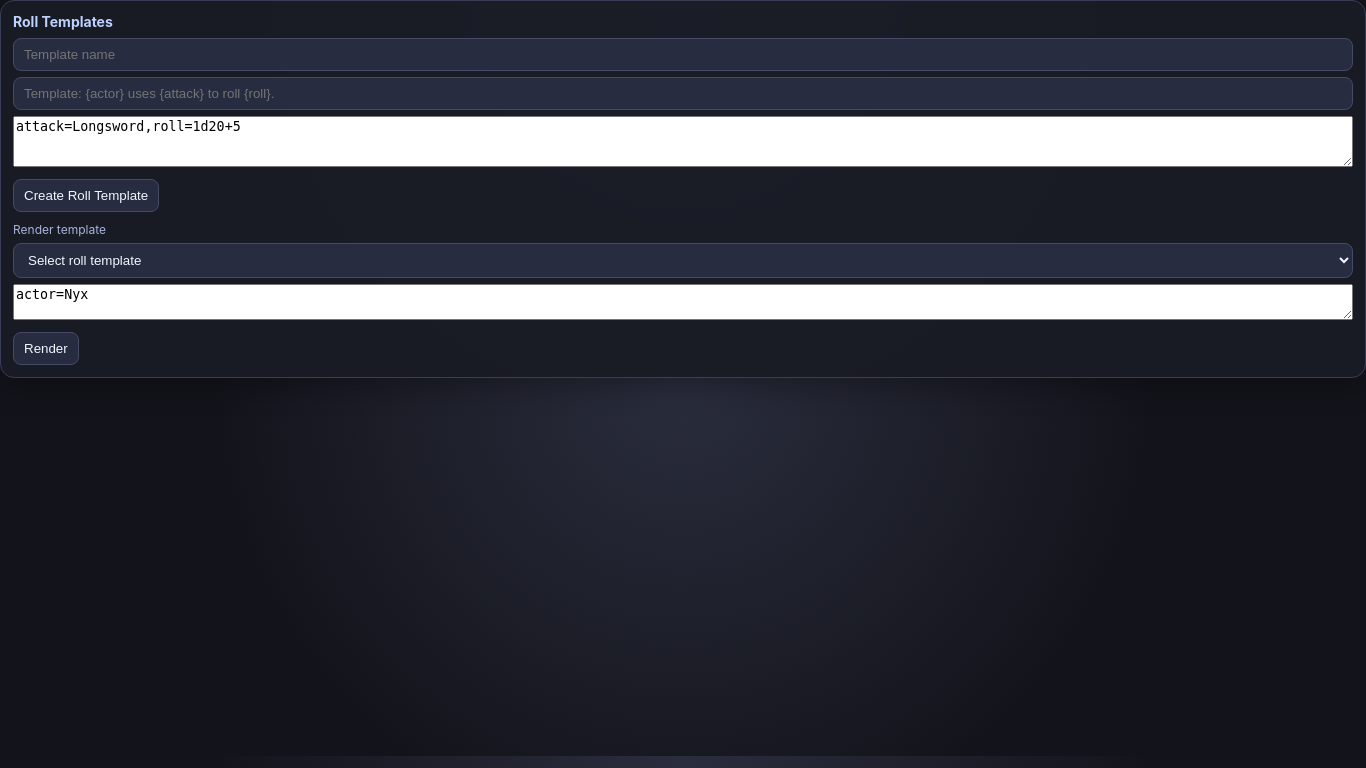
Test: Phase 4 panels › shows backend failure feedback when roll template render fails
The image size is (1366, 768).
Select "Attack" in the dropdown. click: (683, 260)
box: top-left (13, 243), bottom-right (1353, 278)
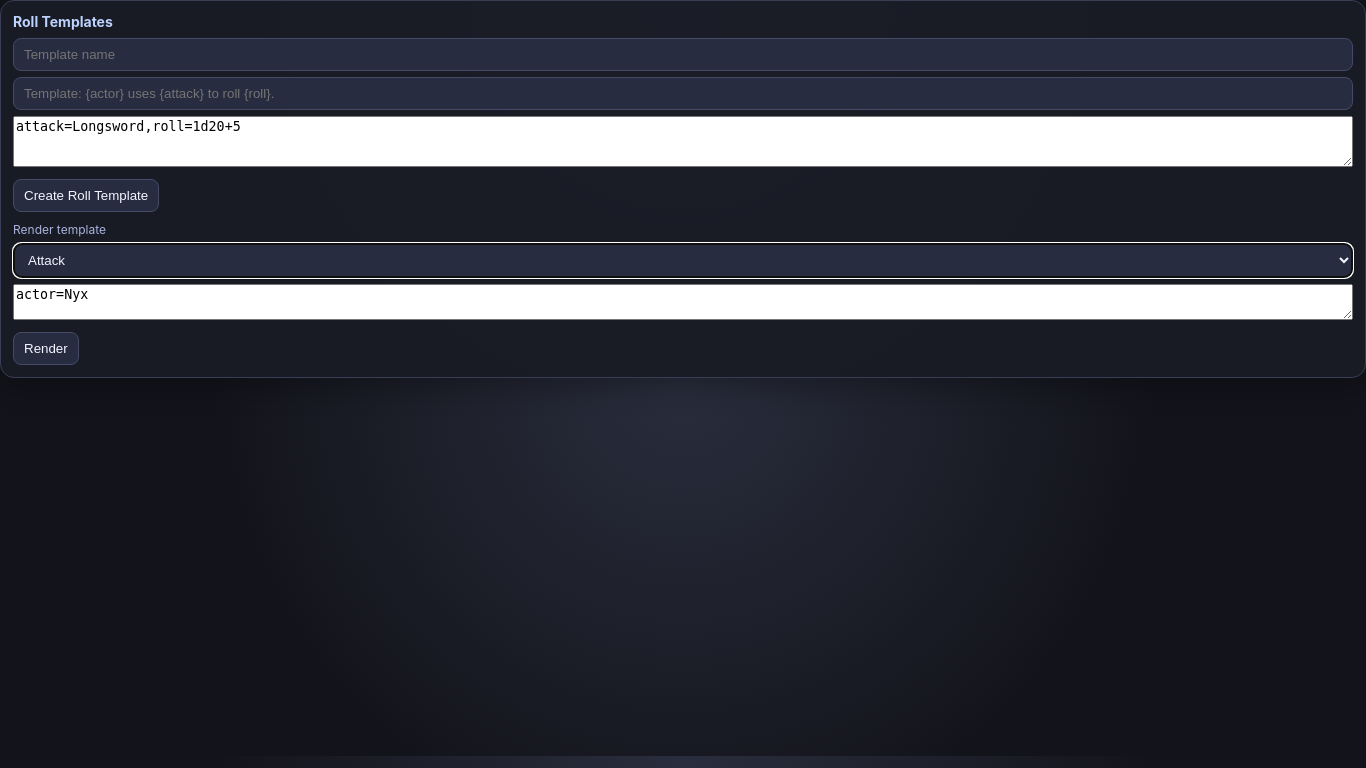
Click the button "Render". click: (46, 348)
box: top-left (13, 332), bottom-right (79, 365)
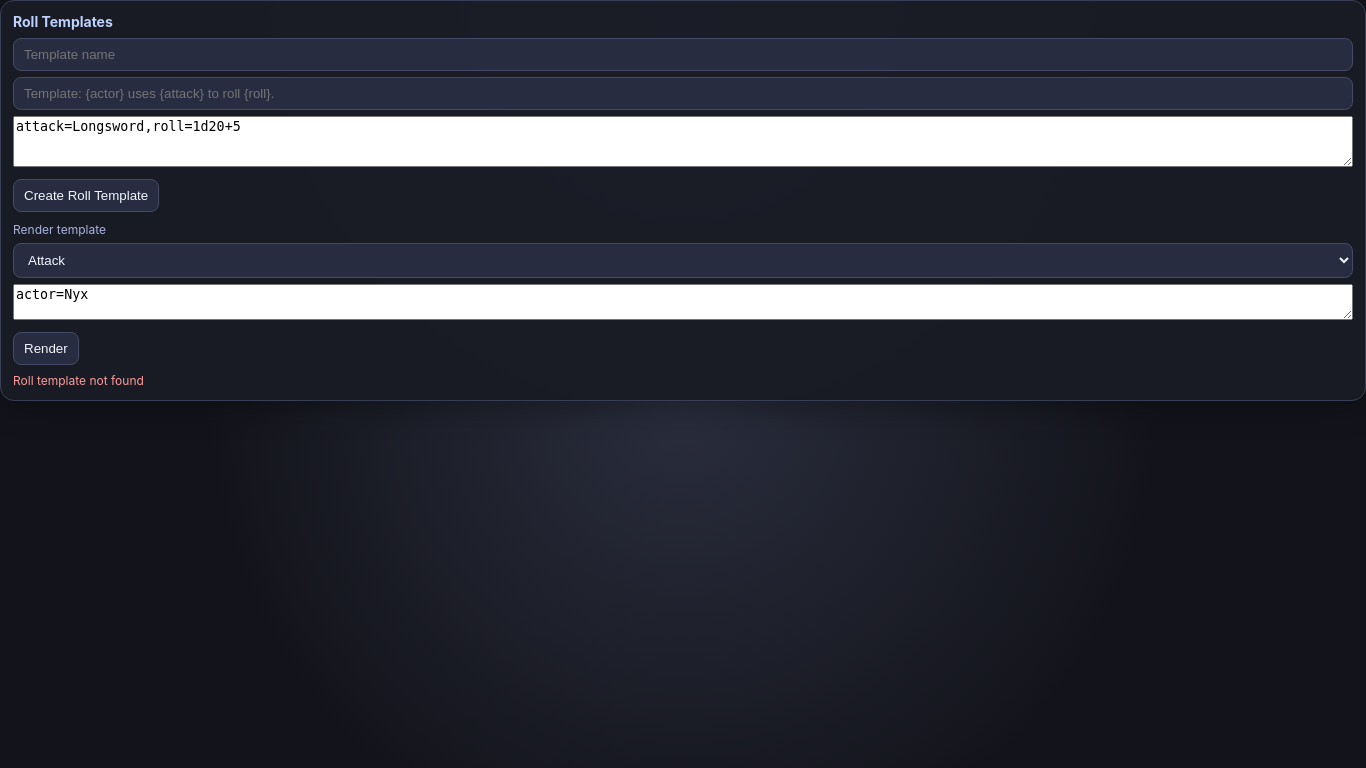
expect the text "Roll template not found" is shown: met, box top-left (13, 373), bottom-right (144, 388)
